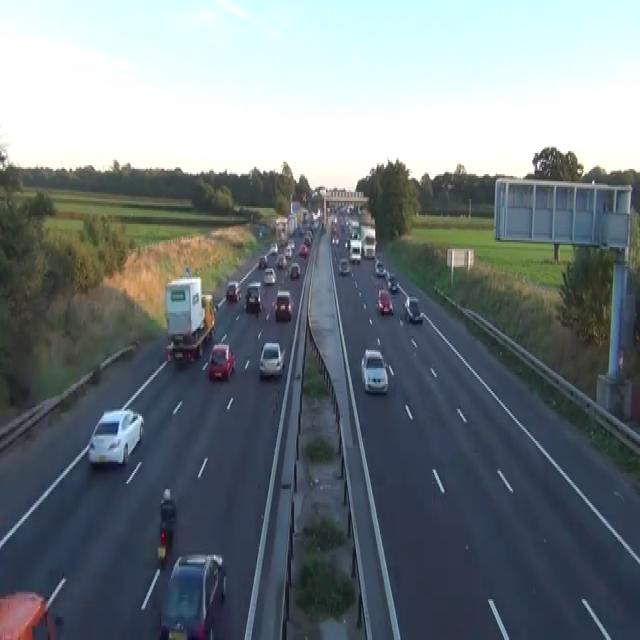Car: (159, 551, 226, 638), (87, 407, 144, 466), (0, 588, 57, 638), (156, 487, 176, 567), (360, 348, 388, 393), (208, 343, 236, 381), (258, 341, 285, 379), (273, 290, 293, 320), (244, 281, 262, 313), (403, 295, 422, 324), (160, 487, 175, 521), (377, 288, 393, 315), (225, 281, 241, 302), (349, 240, 361, 263), (263, 266, 276, 284), (257, 222, 270, 238), (338, 256, 349, 274), (289, 261, 300, 279), (387, 274, 398, 292), (375, 260, 385, 276), (276, 252, 286, 268), (215, 295, 225, 309), (258, 254, 267, 268), (441, 182, 454, 190), (284, 245, 292, 258), (270, 242, 278, 254), (299, 244, 307, 256), (331, 235, 339, 245), (303, 235, 311, 245), (344, 236, 350, 249), (288, 238, 295, 249), (298, 226, 303, 236), (258, 226, 262, 236)
Truck: (163, 274, 215, 362), (361, 226, 376, 258), (275, 217, 288, 245)
